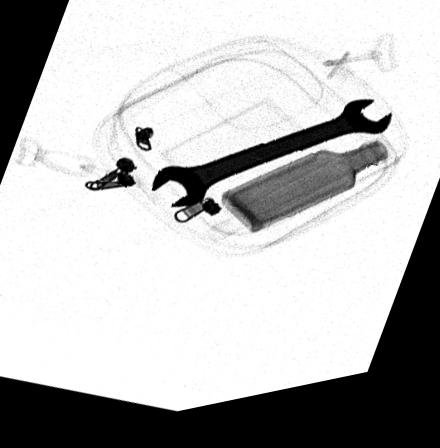Wrench: (148, 112, 396, 215)
